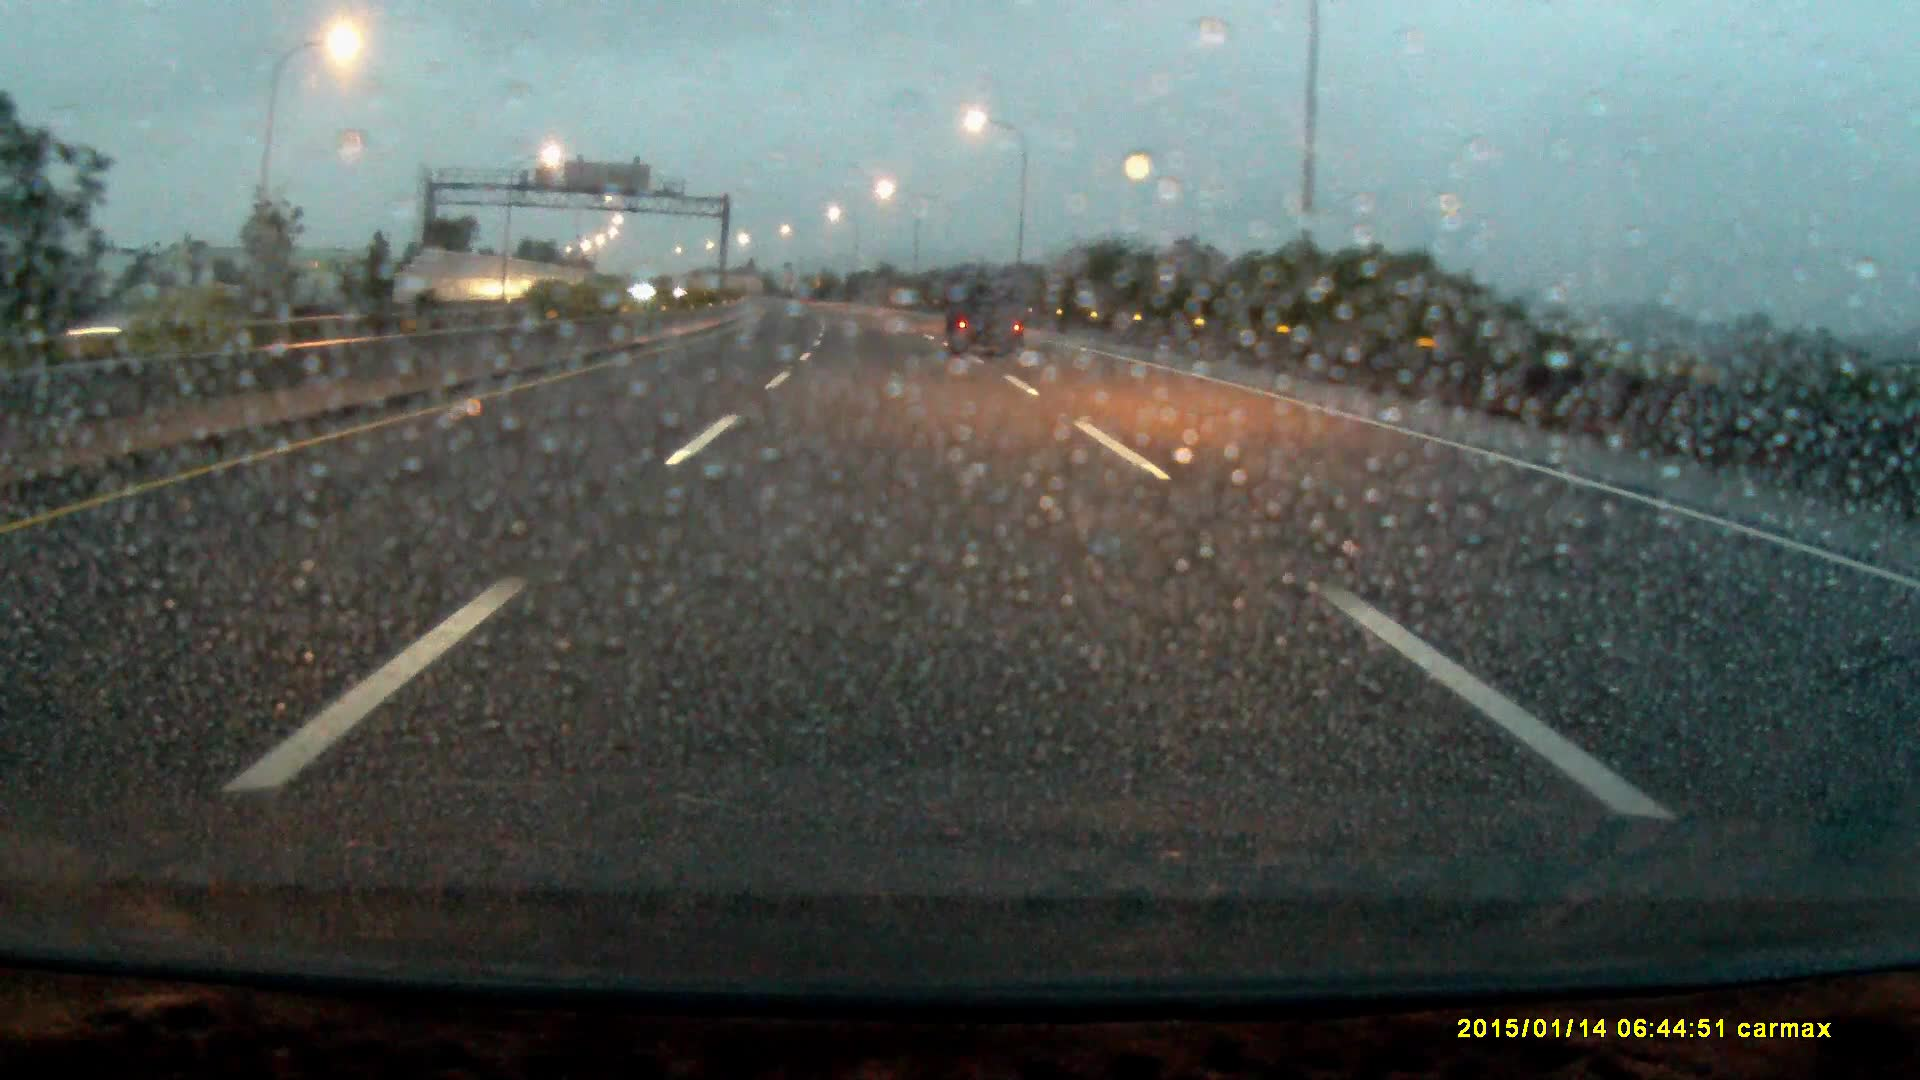vehicle: (943, 272, 1029, 359)
